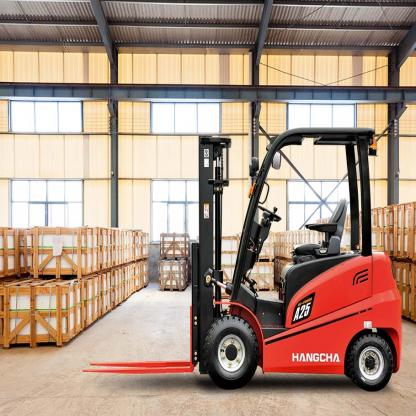box: (2, 276, 83, 346), (29, 226, 100, 276), (156, 258, 189, 292), (158, 230, 192, 256)
forklift: (189, 125, 401, 392)
